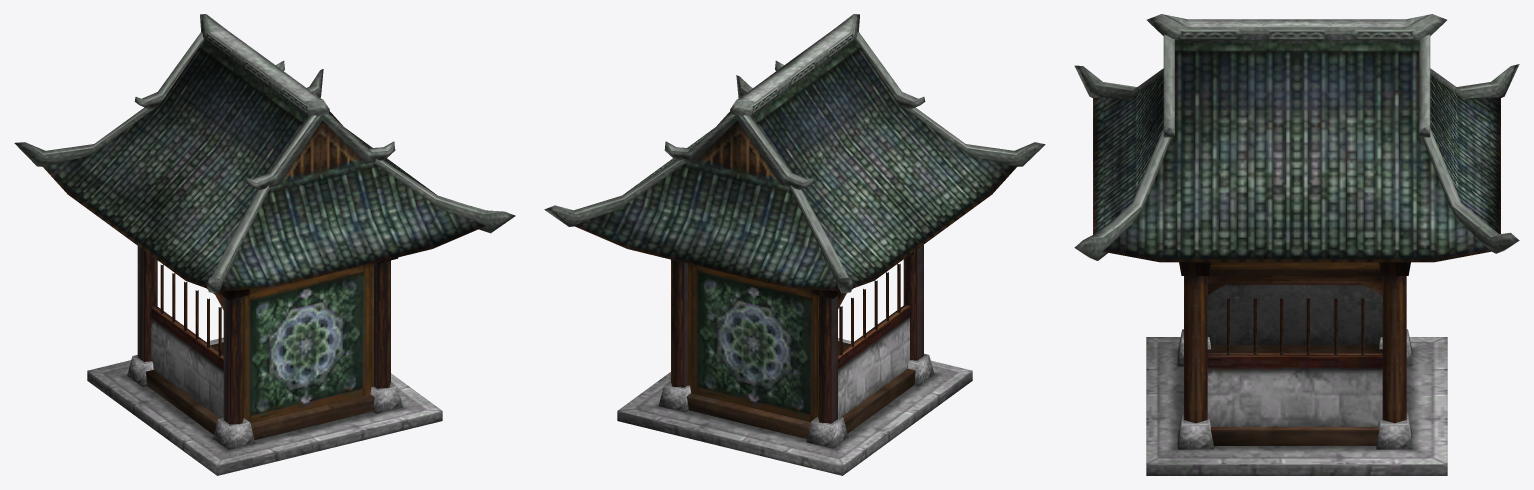
Rendered from c1-004-house2_lod_01.glb.
3 renders of one model, left to right at view 1: azimuth 30°, elevation 25°; view 2: azimuth 150°, elevation 25°; view 3: azimuth 270°, elevation 25°, orthographic. The views are drawn at different scales.
Visible parts, largest first — view 1: c1-004-house2; view 2: c1-004-house2; view 3: c1-004-house2.
Boxes of the visible parts, left/top/right/bottom form: c1-004-house2: left=14, top=14, right=515, bottom=475; c1-004-house2: left=544, top=14, right=1045, bottom=475; c1-004-house2: left=1074, top=14, right=1519, bottom=475.
Size of the model in its own units: 5.14 by 5.45 by 5.53.
Materials: 1 (1 with a texture image).
